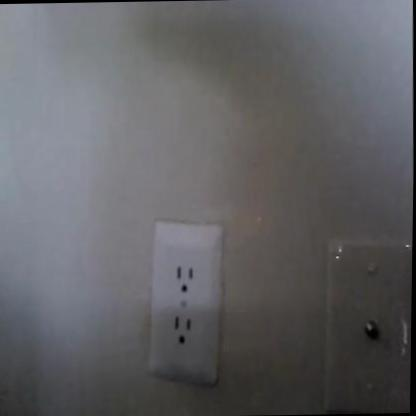OUTLET: (144, 222, 224, 377)
